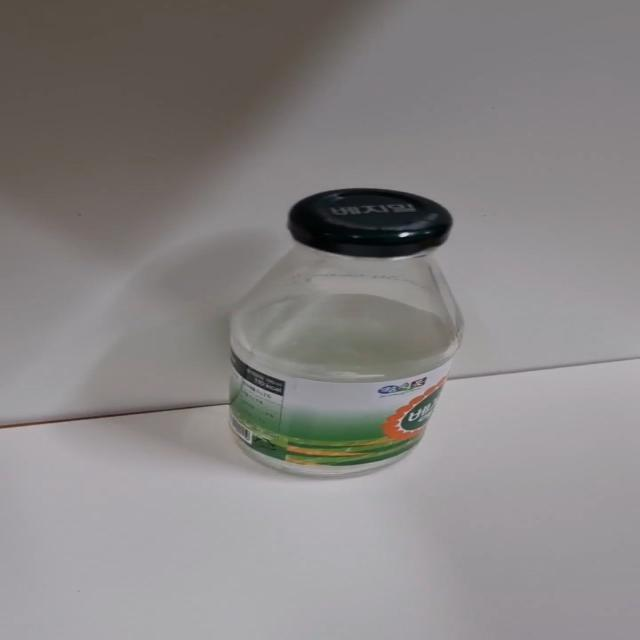Glass: (226, 184, 466, 482)
